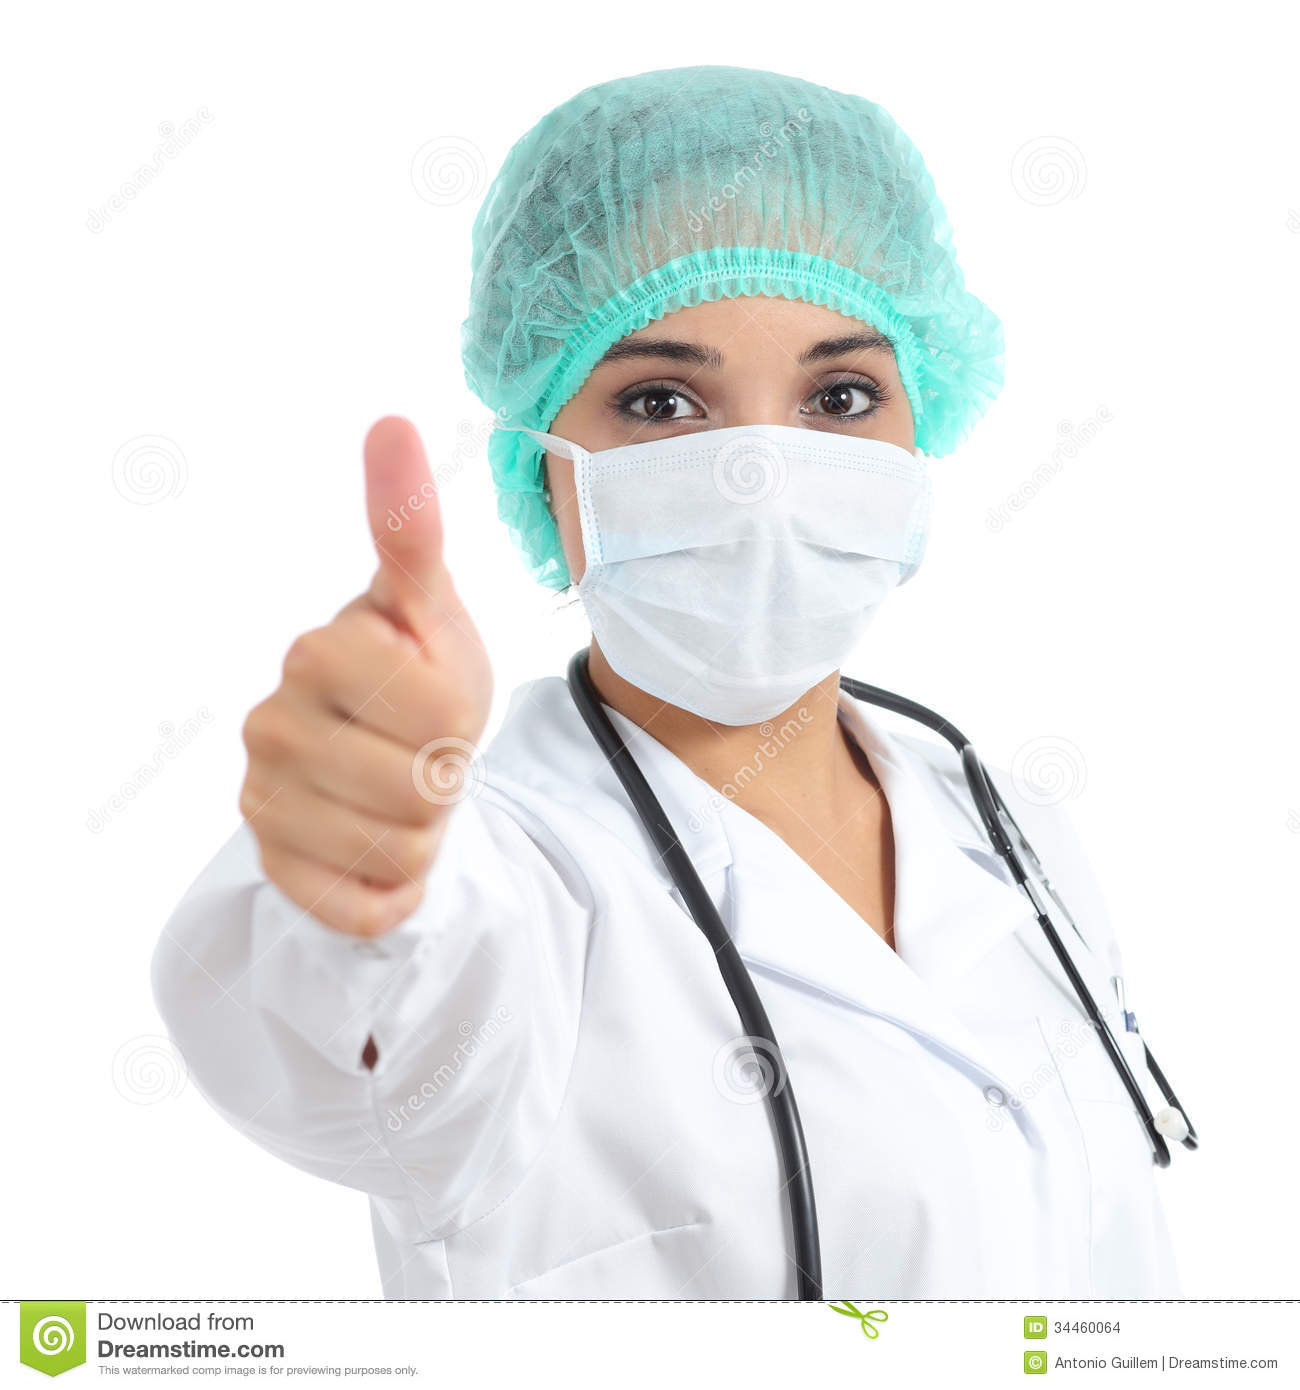mask: (553, 424, 929, 722)
